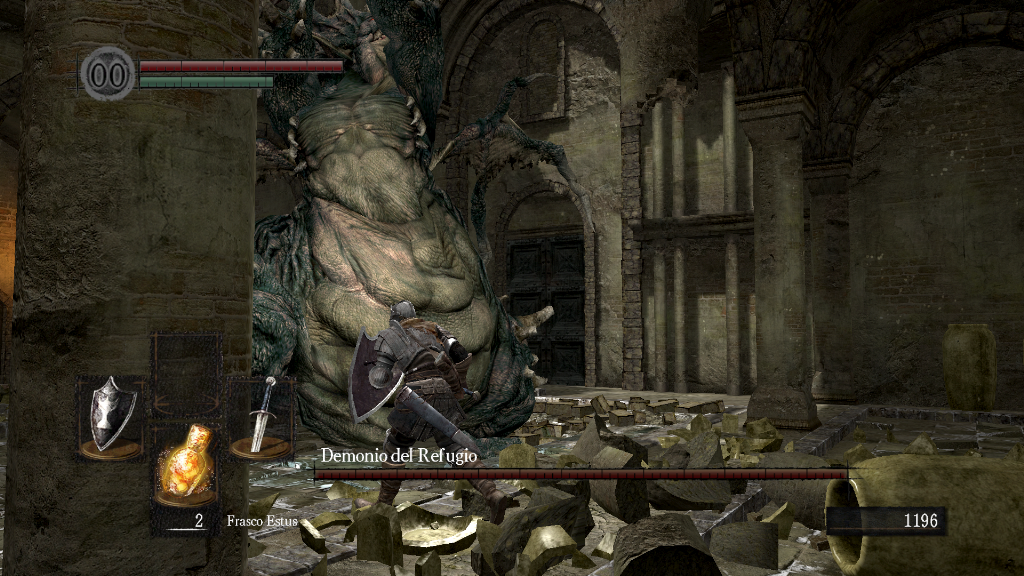asylumDemon: (256, 1, 601, 456)
bossHP: (314, 469, 847, 479)
health: (138, 58, 343, 71)
humanity: (80, 45, 136, 102)
player: (346, 300, 508, 524)
souls: (825, 506, 945, 536)
stamina: (138, 74, 274, 88)
